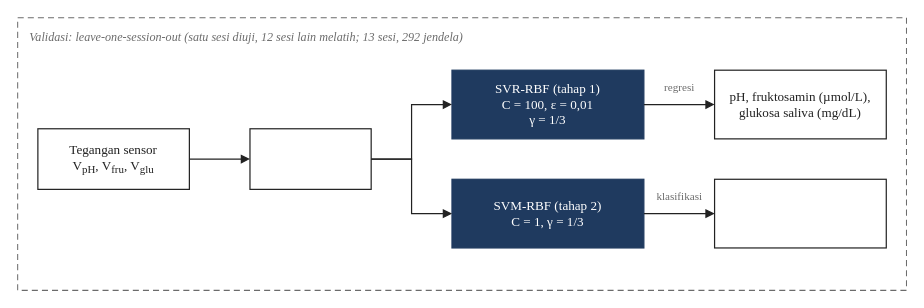
Some shapes in this 924 by 308 pixel diagram are drawn without their labels. The box of each missing label's shape, as (x1, y1, x2, y2) in pixels:
Kelas: Normal / Prediabetes / Diabetes: (713, 178, 886, 248)
Standardisasi z-score: (249, 128, 371, 189)
